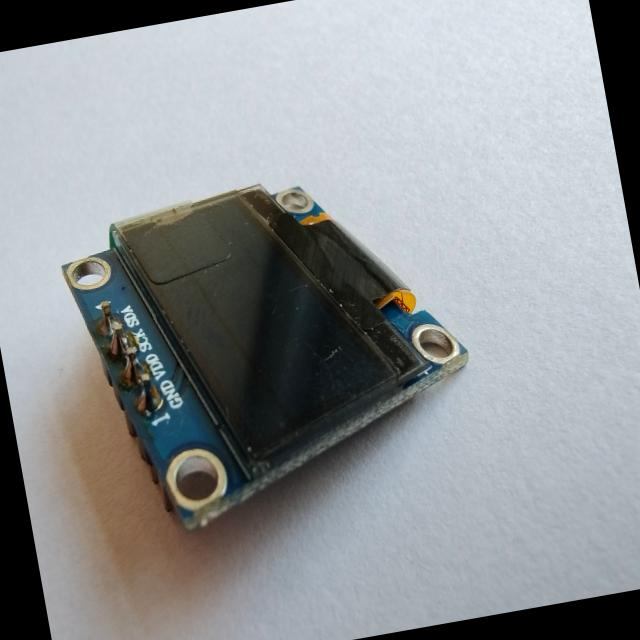oled: (30, 139, 505, 572)
